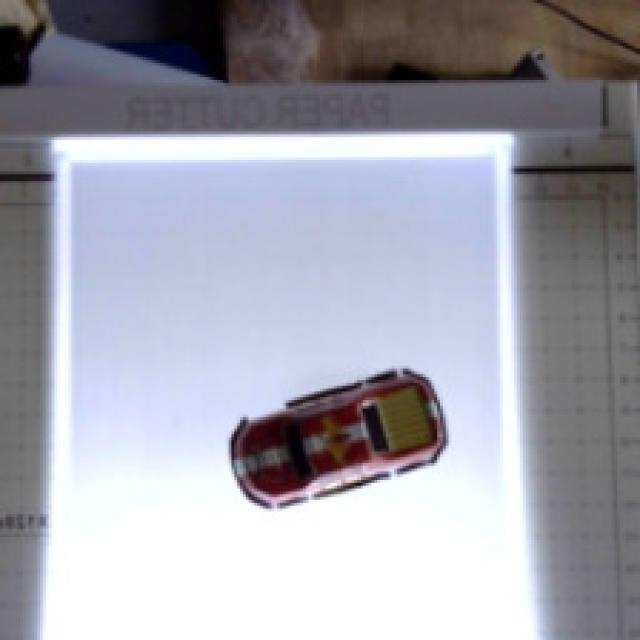Red Car: (204, 328, 459, 559)
